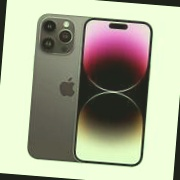iphone: (75, 10, 154, 159)
